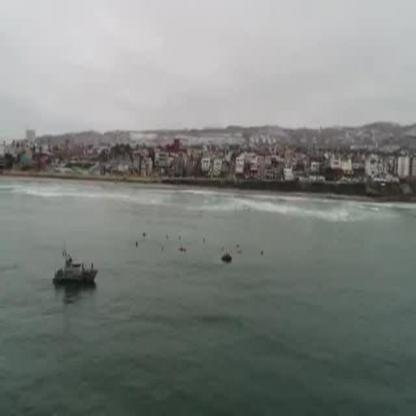Boat: (52, 247, 99, 294)
